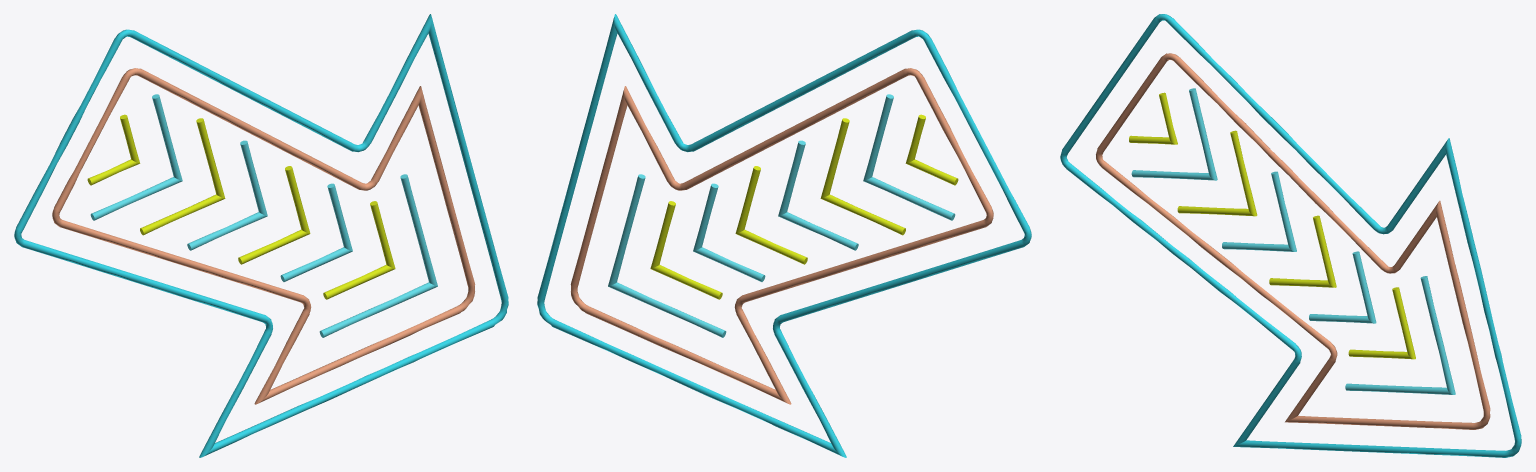
The model's file is Arrow1.fbx.
3 views of the same model, side by side, from view 1: azimuth 30°, elevation 25°; view 2: azimuth 150°, elevation 25°; view 3: azimuth 330°, elevation 25° (orthographic). The views are drawn at different scales.
Visible parts, largest first — view 1: Sweep [46727]; view 2: Sweep [46727]; view 3: Sweep [46727].
Boxes of the visible parts, <box> form: Sweep [46727]: <box>14,14,508,457</box>; Sweep [46727]: <box>537,14,1031,457</box>; Sweep [46727]: <box>1060,14,1521,457</box>.
Size of the model in its own units: 148 by 127 by 2.
